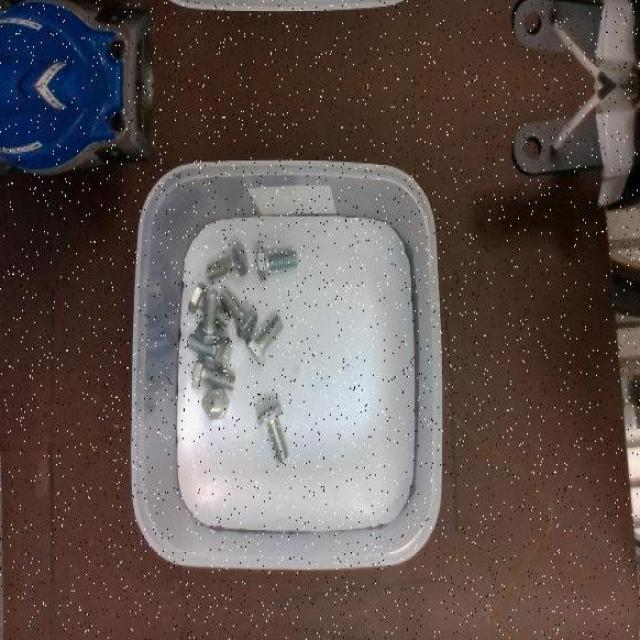screw: (245, 314, 285, 364), (220, 288, 258, 338), (258, 404, 290, 461), (192, 353, 236, 390), (206, 241, 248, 279), (196, 287, 223, 343), (256, 246, 298, 282), (203, 386, 230, 418)
